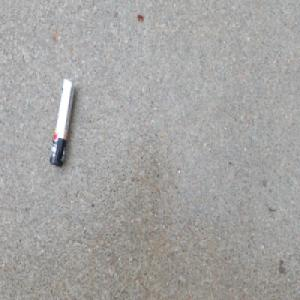Battery: (48, 76, 77, 169)
